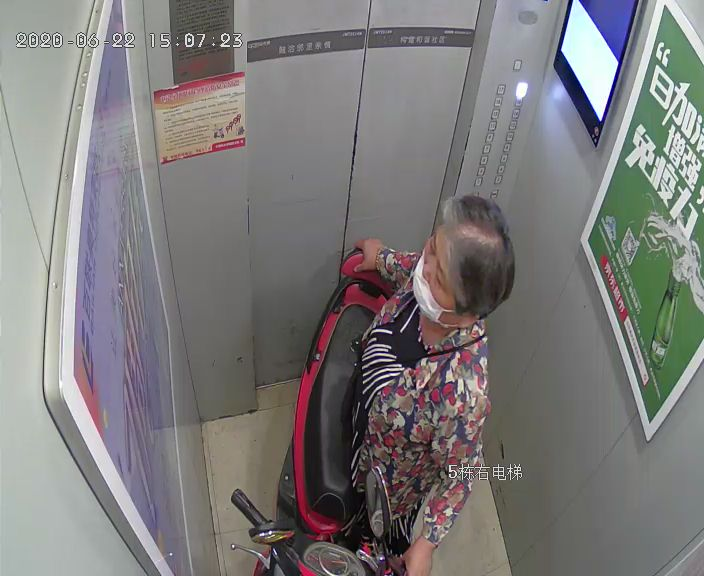Electric-bicycle: (230, 244, 395, 574)
